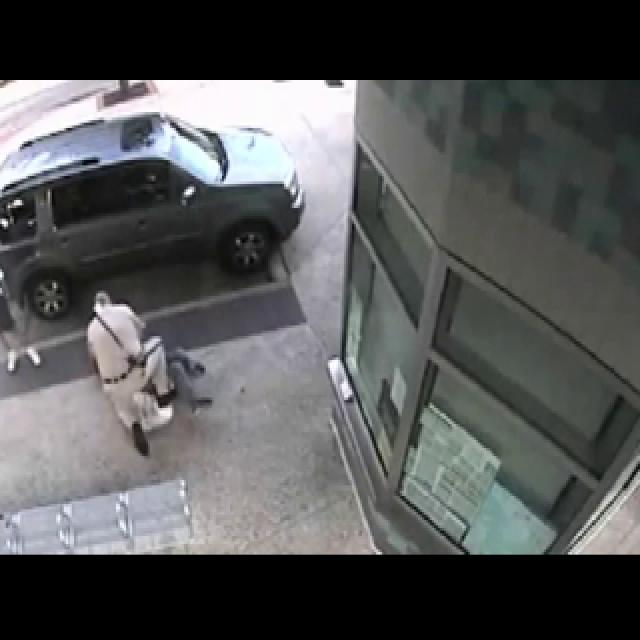arrest: (64, 246, 203, 464)
